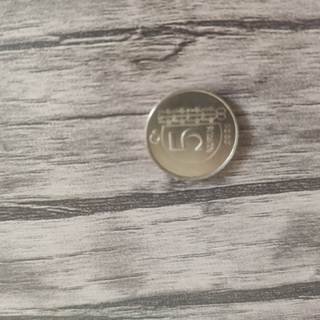5KURUS: (143, 86, 240, 181)
